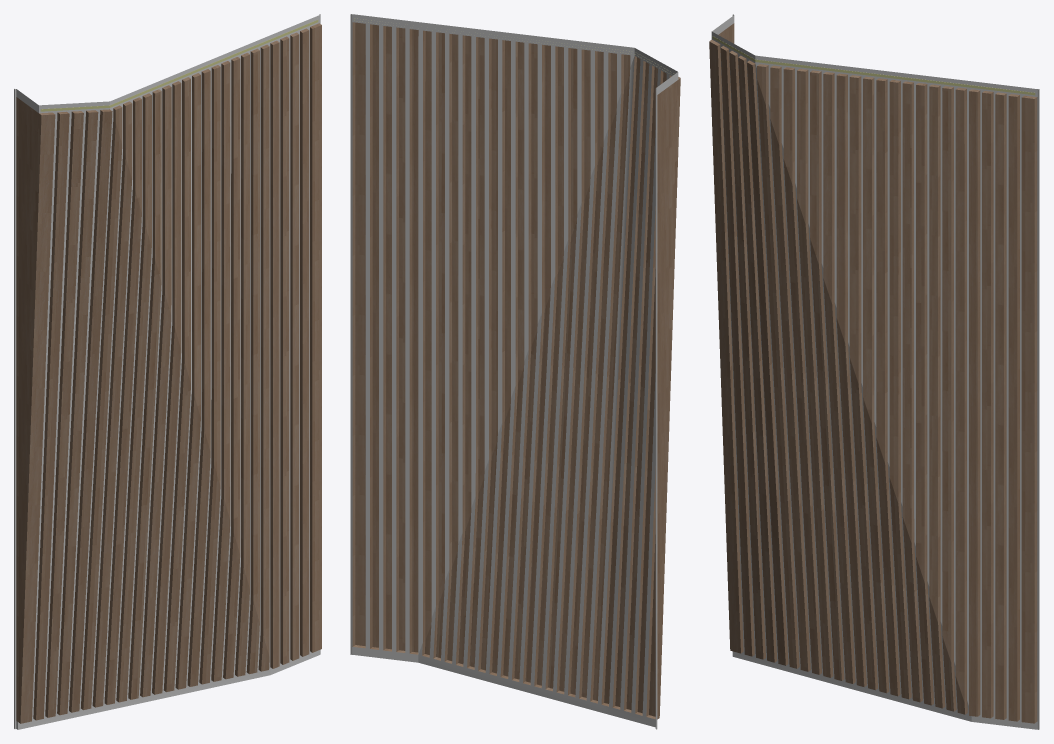
3 renders of one model, left to right at view 1: azimuth 30°, elevation 25°; view 2: azimuth 150°, elevation 25°; view 3: azimuth 330°, elevation 25°, orthographic.
Parts seen in each view (by area): view 1: M_W_002_h_4x8; view 2: M_W_002_h_4x8; view 3: M_W_002_h_4x8.
Boxes of the visible parts, box(x1,y1,x2,y2) form: M_W_002_h_4x8: box(14, 14, 321, 729); M_W_002_h_4x8: box(350, 14, 680, 729); M_W_002_h_4x8: box(709, 14, 1039, 729).
Size of the model in its own units: 4 by 8 by 0.9.
